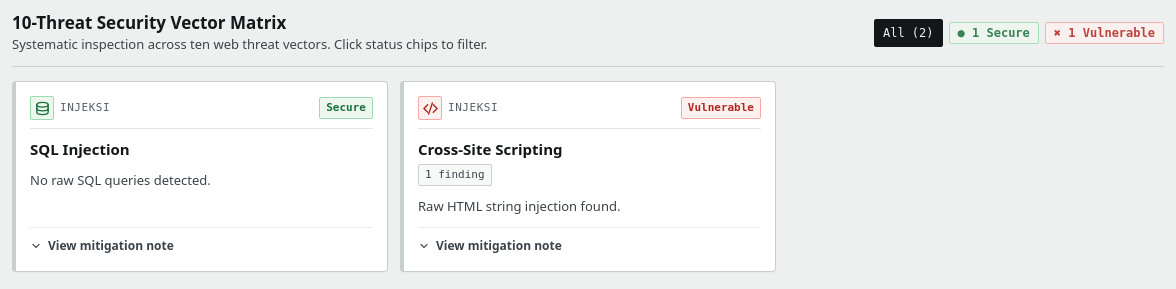
Test: Compact Dashboard & Tabbed Report Navigation › filters threat matrix cards by status in ThreatMatrixView
This screenshot has width=1176, height=289.
Expected: the heading "SQL Injection" is shown, [30, 139, 130, 159]
Expected: the heading "Cross-Site Scripting" is shown, [418, 139, 562, 159]
Filter to Vulnerable only
Step 1. Click the button "✖ 1 Vulnerable" → (1104, 33), box [1045, 22, 1164, 44]
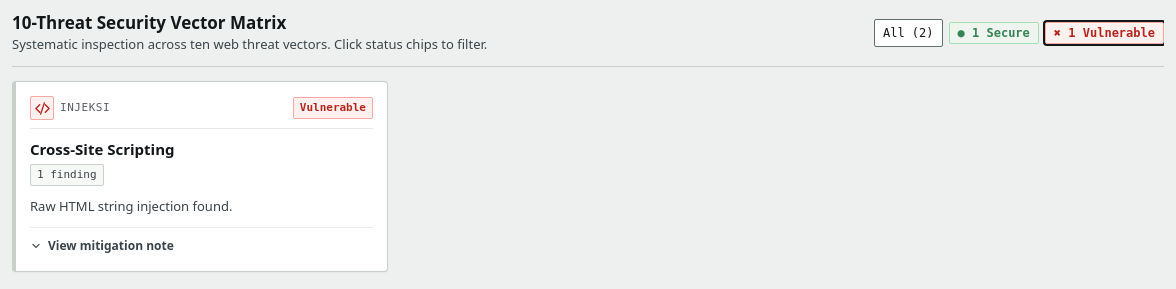
Expected: the heading "Cross-Site Scripting" is shown, [30, 139, 174, 159]
Expected: the heading "SQL Injection" is gone
Filter to Secure only
Step 2. Click the button "● 1 Secure" → (994, 33), box [949, 22, 1039, 44]
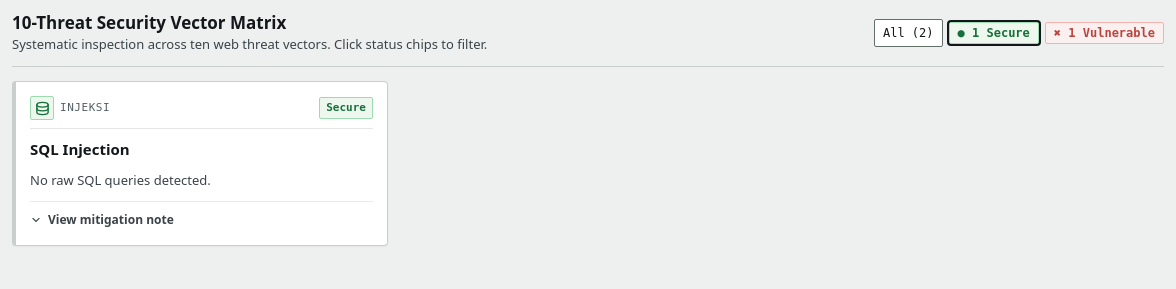
Expected: the heading "SQL Injection" is shown, [30, 139, 130, 159]
Expected: the heading "Cross-Site Scripting" is gone
